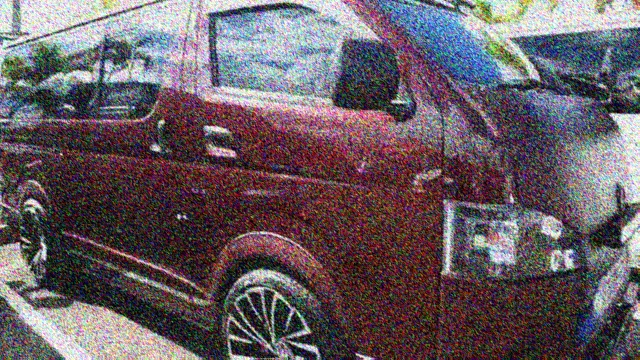van: (3, 0, 632, 360)
